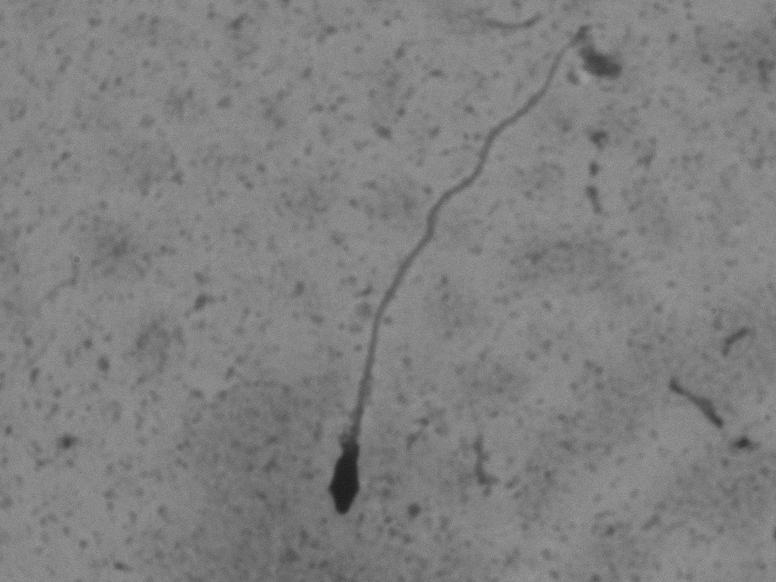Abnormal: (306, 19, 620, 538)
